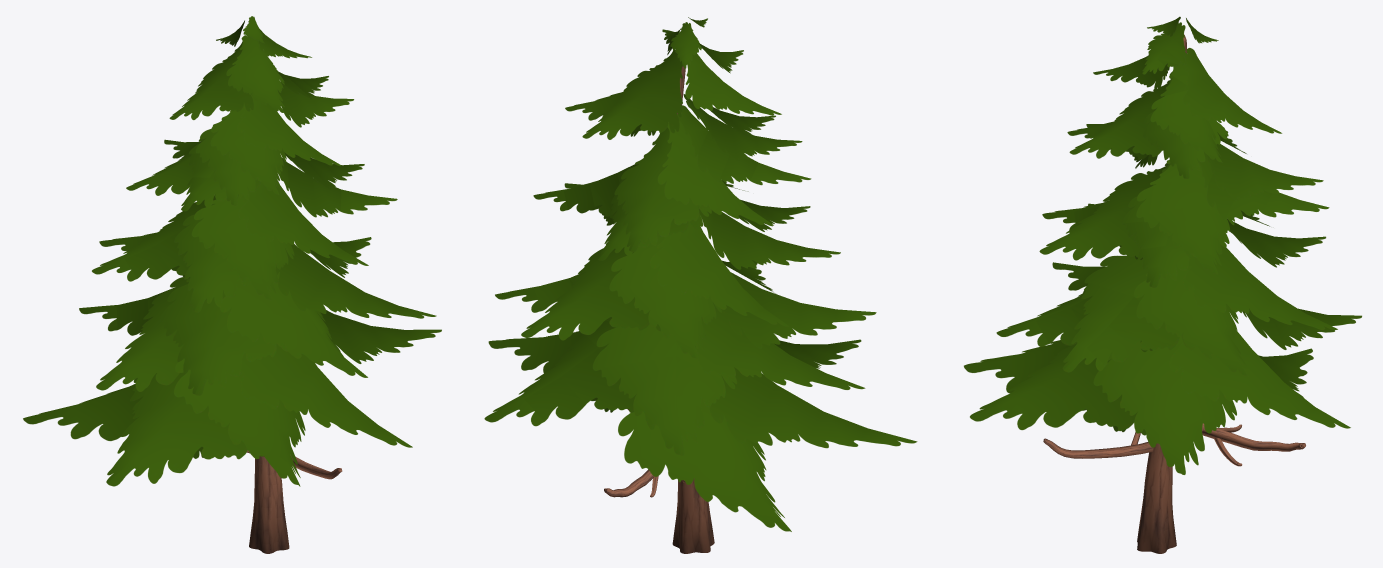
The model's file is pine-variant-4-transformed.glb.
3 renders of one model, left to right at view 1: azimuth 30°, elevation 25°; view 2: azimuth 150°, elevation 25°; view 3: azimuth 270°, elevation 25°, orthographic. The views are drawn at different scales.
Parts seen in each view (by area): view 1: Pine_2; view 2: Pine_2; view 3: Pine_2.
Part boxes in pixels (x1,y1,x2,y2): Pine_2: [23, 16, 441, 553]; Pine_2: [484, 17, 917, 553]; Pine_2: [964, 16, 1361, 553].
Bounding box in the file's own units: 5.73 × 7.38 × 5.22.
Materials: 2 (2 with a texture image).
